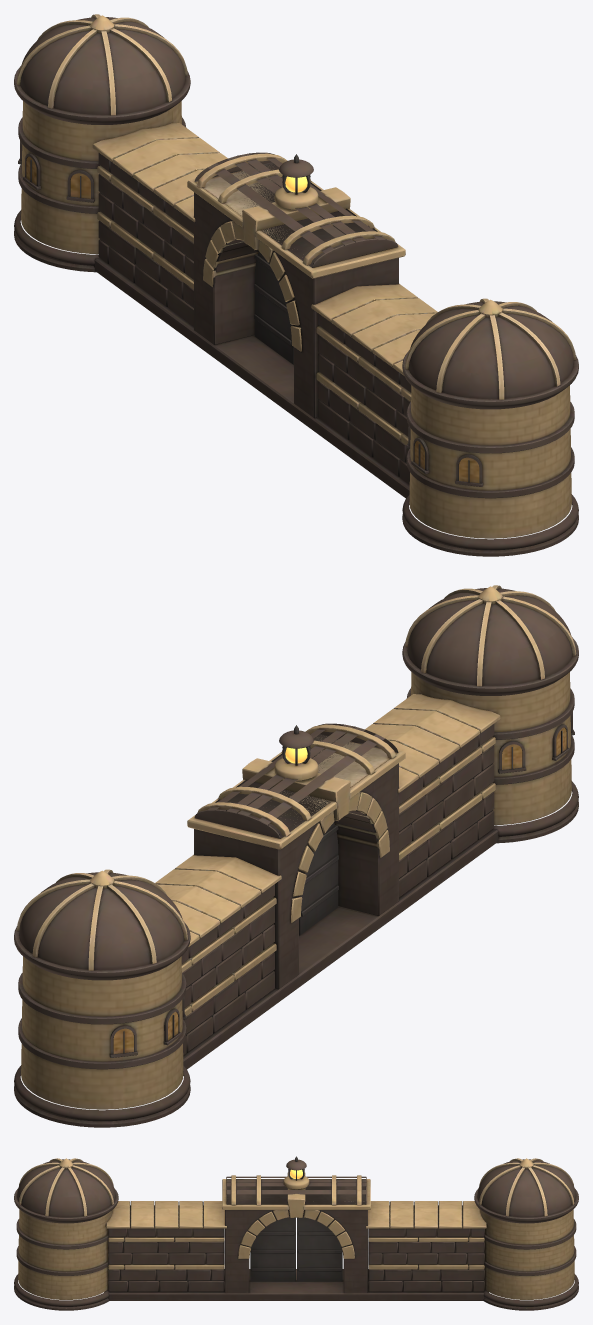
The model's file is lamp_gate.glb.
The picture shows the model from 3 angles, top to bottom: view 1: azimuth 30°, elevation 25°; view 2: azimuth 150°, elevation 25°; view 3: azimuth 270°, elevation 25°; orthographic projection. The views are drawn at different scales.
Parts seen in each view (by area): view 1: lamp_gate_body; view 2: lamp_gate_body; view 3: lamp_gate_body.
Part boxes in pixels (left/top/right/bottom): lamp_gate_body: left=14, top=14, right=578, bottom=556; lamp_gate_body: left=14, top=585, right=578, bottom=1127; lamp_gate_body: left=14, top=1156, right=578, bottom=1310.
Bounding box in the file's own units: 5 × 6.98 × 27.
2 materials, 1 textured.
